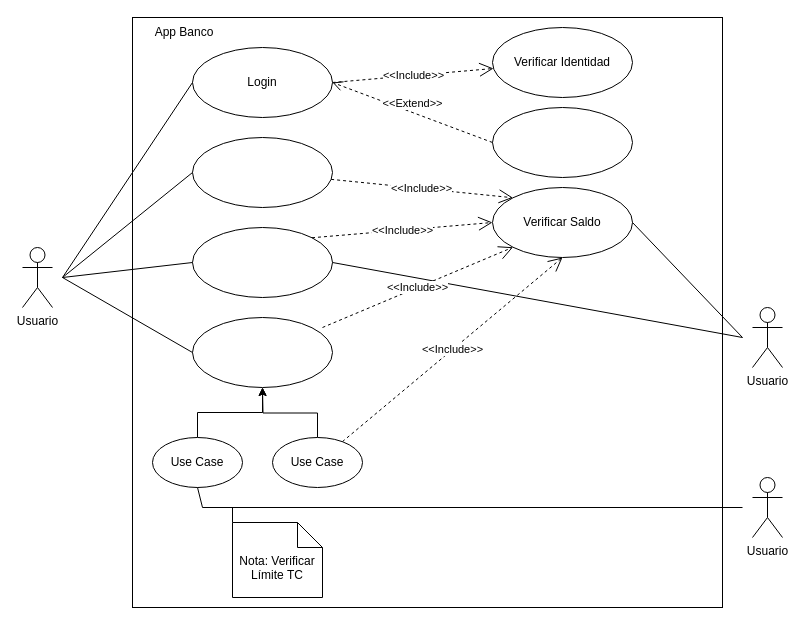
Some shapes in this 805 by 625 pixel diagram are drawn without their labels. The shapes that lost their labels are listed below. From the top down, each one's centre as x and y in pixels, then its label:
point 562,142: Login Error
point 262,172: Ver Saldo
point 262,262: Transferencia Fondos
point 262,352: Pagar
